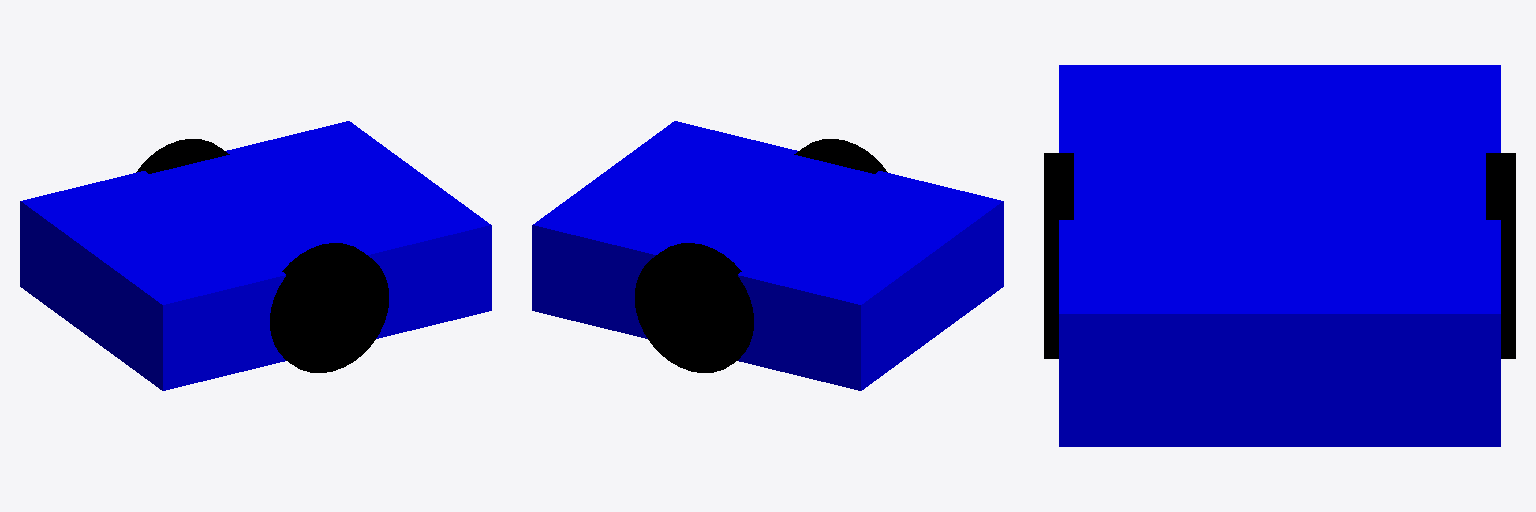
robot.urdf — pubsub_bot:
<?xml version="1.0"?>
<robot name="pubsub_bot">

  <material name="blue">
    <color rgba="0 0 1 1"/>
  </material>

  <material name="black">
    <color rgba="0 0 0 1"/>
  </material>

  <material name="white">
    <color rgba="1 1 1 1"/>
  </material>

  <link name="base_link">
    <visual>
      <geometry>
        <box size="0.4 0.3 0.1"/>
      </geometry>
      <material name="blue"/>
    </visual>
    <collision>
      <geometry>
        <box size="0.4 0.3 0.1"/>
      </geometry>
    </collision>
    <inertial>
      <mass value="5"/>
      <inertia ixx="0.1" iyy="0.1" izz="0.1" ixy="0.0" ixz="0.0" iyz="0.0"/>
    </inertial>
  </link>

  <link name="left_wheel">
    <visual>
      <origin xyz="0 0 0" rpy="1.5708 0 0"/>
      <geometry>
        <cylinder radius="0.07" length="0.02"/>
      </geometry>
      <material name="black"/> 
    </visual>
    <collision>
      <origin xyz="0 0 0" rpy="1.5708 0 0"/>
      <geometry>
        <cylinder radius="0.07" length="0.02"/>
      </geometry>
    </collision>
    <inertial>
      <mass value="1"/>
      <inertia ixx="0.01" iyy="0.01" izz="0.01" ixy="0.0" ixz="0.0" iyz="0.0"/>
    </inertial>
  </link>

  <joint name="left_wheel_joint" type="continuous">
    <parent link="base_link"/>
    <child link="left_wheel"/>
    <origin xyz="0 0.15 0"/>
    <axis xyz="0 1 0"/>
  </joint>

  <link name="right_wheel">
    <visual>
      <origin xyz="0 0 0" rpy="1.5708 0 0"/>
      <geometry>
        <cylinder radius="0.07" length="0.02"/>
      </geometry>
      <material name="black"/>
    </visual>
    <collision>
      <origin xyz="0 0 0" rpy="1.5708 0 0"/>
      <geometry>
        <cylinder radius="0.07" length="0.02"/>
      </geometry>
    </collision>
    <inertial>
      <mass value="1"/>
      <inertia ixx="0.01" iyy="0.01" izz="0.01" ixy="0.0" ixz="0.0" iyz="0.0"/>
    </inertial>
  </link>

  <joint name="right_wheel_joint" type="continuous">
    <parent link="base_link"/>
    <child link="right_wheel"/>
    <origin xyz="0 -0.15 0"/>
    <axis xyz="0 1 0"/>
  </joint>

  <link name="caster_wheel">
    <visual>
      <geometry>
        <sphere radius="0.035"/>
      </geometry>
      <material name="white"/>
    </visual>
    <collision>
      <geometry>
        <sphere radius="0.035"/>
      </geometry>
    </collision>
    <inertial>
      <mass value="0.5"/>
      <inertia ixx="0.001" iyy="0.001" izz="0.001" ixy="0" ixz="0" iyz="0"/>
    </inertial>
  </link>

  <joint name="caster_joint" type="fixed">
    <parent link="base_link"/>
    <child link="caster_wheel"/>
    <origin xyz="-0.15 0 -0.035"/>
  </joint>

  <gazebo reference="base_link">
    <material>Gazebo/Blue</material>
  </gazebo>

  <gazebo reference="left_wheel">
    <material>Gazebo/Black</material>
  </gazebo>

  <gazebo reference="right_wheel">
    <material>Gazebo/Black</material>
  </gazebo>

  <gazebo reference="caster_wheel">
    <material>Gazebo/White</material>
    <mu1>0.001</mu1>
    <mu2>0.001</mu2>
  </gazebo>

  <gazebo>
    <plugin name="diff_drive" filename="libgazebo_ros_diff_drive.so">
      <left_joint>left_wheel_joint</left_joint>
      <right_joint>right_wheel_joint</right_joint>
      <wheel_separation>0.3</wheel_separation>
      <wheel_diameter>0.14</wheel_diameter> 
      <max_wheel_torque>20</max_wheel_torque>
      <max_wheel_acceleration>1.0</max_wheel_acceleration>
      <publish_odom>true</publish_odom>
      <publish_odom_tf>true</publish_odom_tf>
      <publish_wheel_tf>true</publish_wheel_tf>
      <odometry_frame>odom</odometry_frame>
      <robot_base_frame>base_link</robot_base_frame>
    </plugin>
  </gazebo>

</robot>

--- Facts derived from the render (not from the file) ---
Views: 3 orthographic renders of the robot side by side, from view 1: azimuth 30°, elevation 25°; view 2: azimuth 150°, elevation 25°; view 3: azimuth 270°, elevation 25°.
Robot: pubsub_bot — 4 links, 3 joints (2 continuous, 1 fixed); root link base_link; default pose: every joint at zero.
Links seen in each view (by area): view 1: base_link, right_wheel, left_wheel; view 2: base_link, left_wheel, right_wheel; view 3: base_link, left_wheel, right_wheel.
Link boxes in pixels (x1,y1,x2,y2): base_link: [20, 121, 491, 390]; right_wheel: [270, 243, 388, 372]; left_wheel: [136, 139, 229, 173]; base_link: [532, 121, 1003, 390]; left_wheel: [635, 243, 753, 372]; right_wheel: [794, 139, 887, 173]; base_link: [1059, 65, 1500, 446]; left_wheel: [1486, 153, 1515, 358]; right_wheel: [1044, 153, 1073, 358].
Size in the robot's own frame: 0.4 by 0.32 by 0.14 metres.
Geometry: primitives only (box / cylinder / sphere), no mesh files.